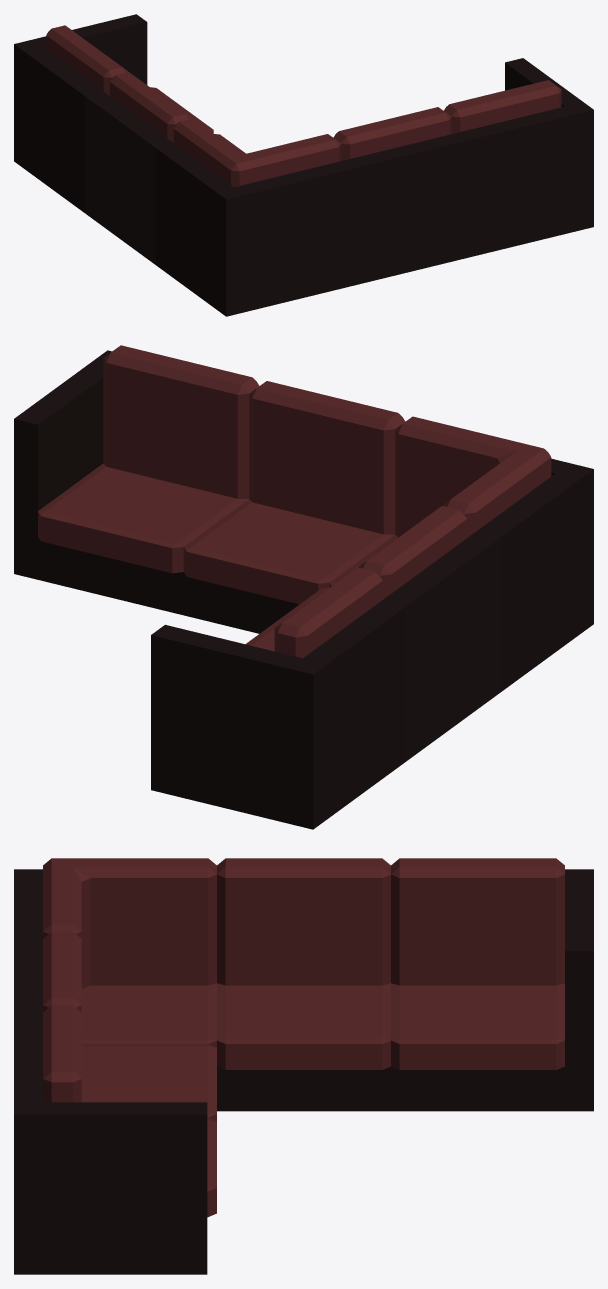
Rendered from corner_couch.glb.
The picture shows the model from 3 angles, top to bottom: view 1: azimuth 30°, elevation 25°; view 2: azimuth 150°, elevation 25°; view 3: azimuth 270°, elevation 25°; orthographic projection. The views are drawn at different scales.
Visible parts, largest first — view 1: couch, Sit; view 2: couch, Sit; view 3: Sit, couch.
Boxes of the visible parts, left/top/right/bottom form: couch: left=14, top=14, right=593, bottom=316; Sit: left=46, top=25, right=561, bottom=187; couch: left=14, top=350, right=593, bottom=829; Sit: left=38, top=345, right=551, bottom=658; Sit: left=43, top=858, right=564, bottom=1217; couch: left=14, top=869, right=593, bottom=1274.
Bounding box in the file's own units: 3 × 1.07 × 3.
